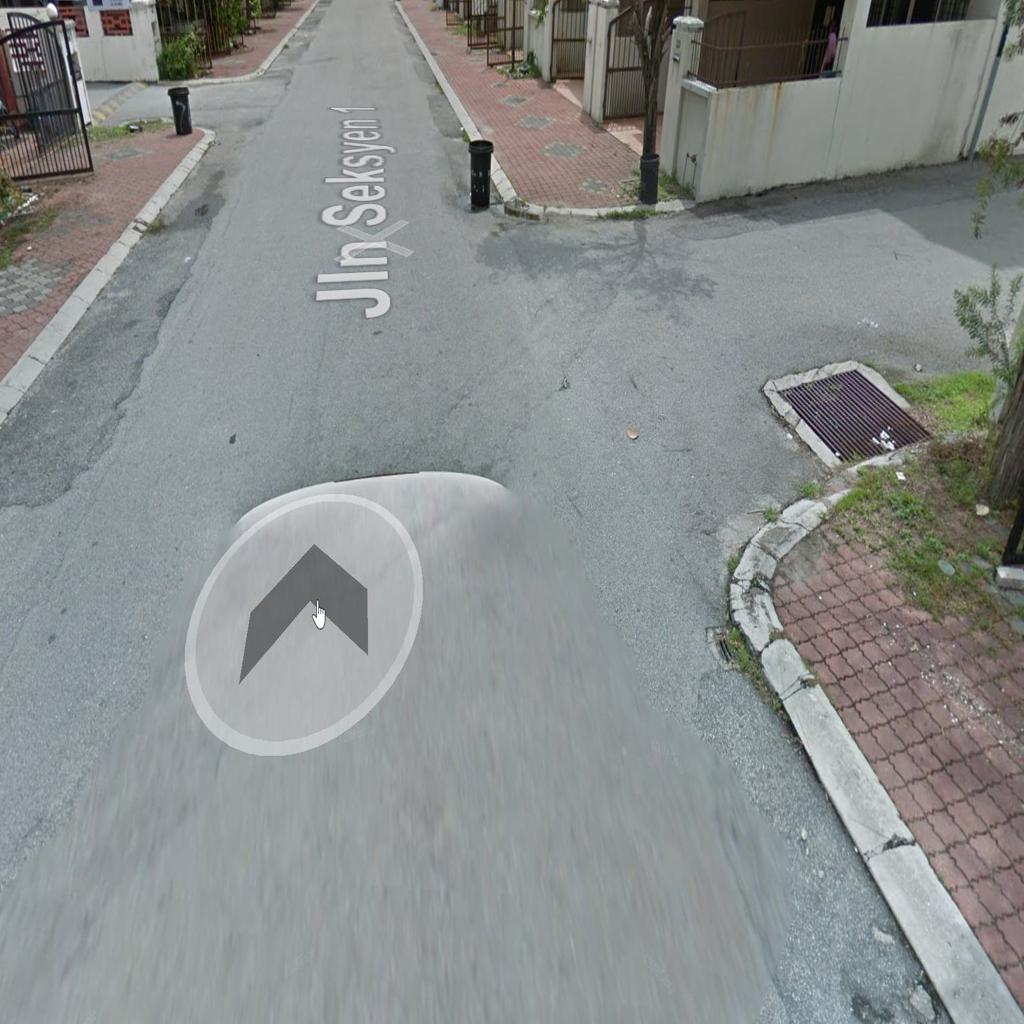Junction: (429, 156, 987, 611), (75, 68, 294, 159)
